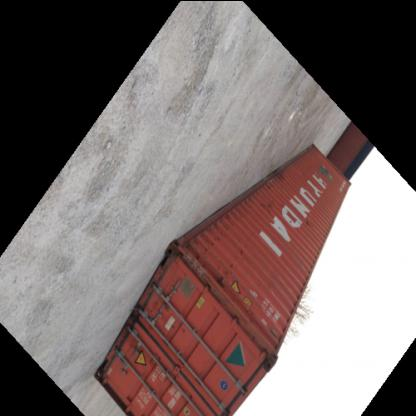Damage: (200, 225, 232, 259), (276, 166, 322, 184), (149, 343, 171, 380), (214, 261, 238, 285), (260, 194, 282, 218), (169, 316, 192, 337), (240, 240, 251, 260), (306, 213, 318, 228)
